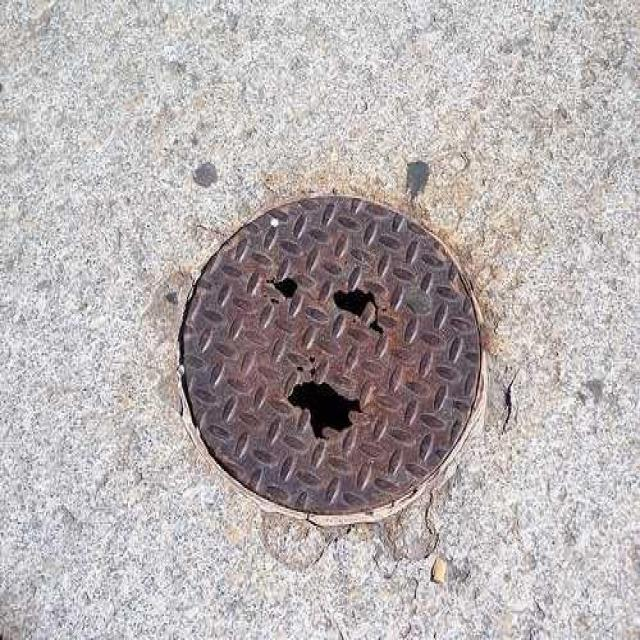manhole: (180, 197, 485, 525)
